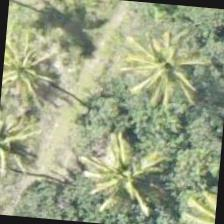Kelapa_Sawit: (120, 26, 218, 124), (71, 126, 170, 223), (0, 26, 73, 122)
